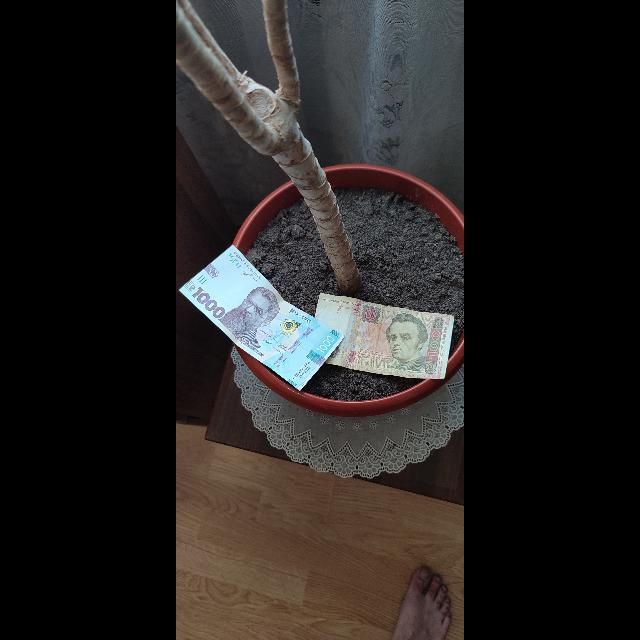1000uah: (180, 245, 347, 390)
100uah: (319, 292, 453, 380)
